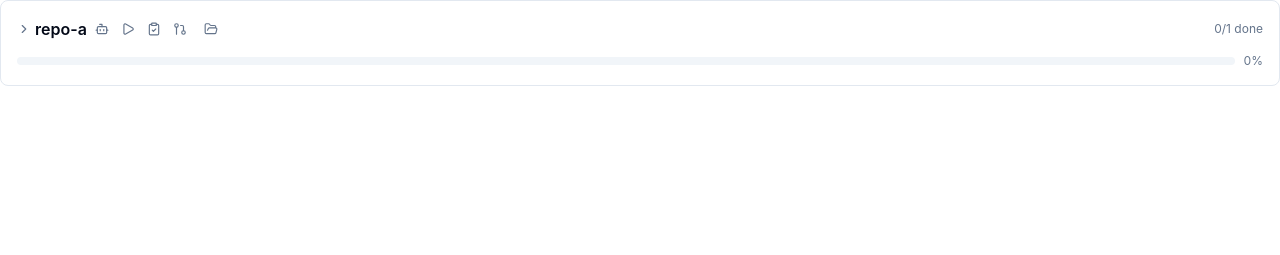
Test: RepoTodoCard base-branch merge › is disabled while any operation runs on the workspace
What coordinates should you click on to do the following:
click the button "repo-a"
I would click on:
 (52, 29)
Its box is 13,17 -> 91,41.
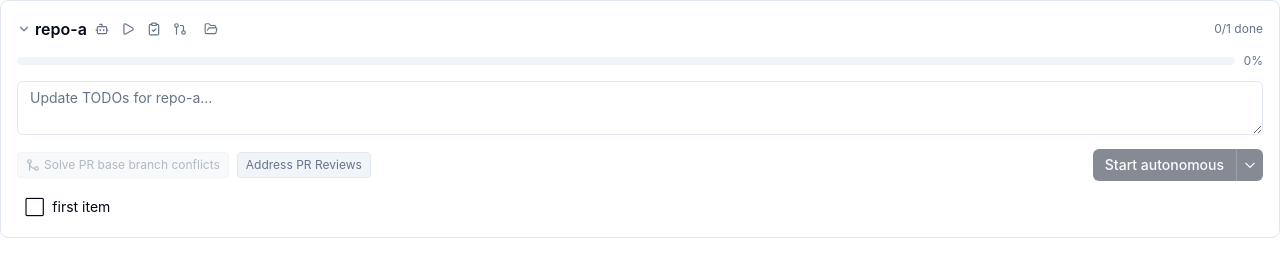
Result: the button "Solve PR base branch conflicts" is disabled at 17,152 -> 229,178
